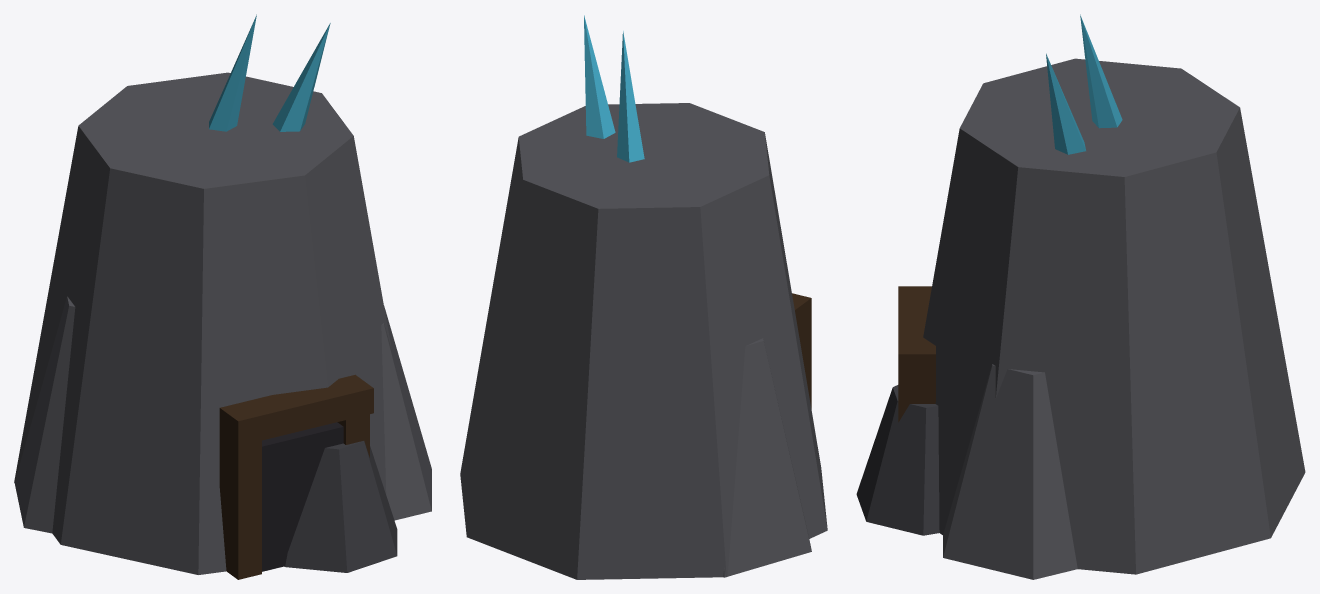
File: mine_l1_lowpoly.glb
3 views of the same model, side by side, from view 1: azimuth 30°, elevation 25°; view 2: azimuth 150°, elevation 25°; view 3: azimuth 270°, elevation 25° (orthographic). The views are drawn at different scales.
Visible parts, largest first — view 1: lp_mine; view 2: lp_mine; view 3: lp_mine.
Boxes of the visible parts, x1,y1,x2,y2 form: lp_mine: [14, 14, 431, 579]; lp_mine: [460, 15, 827, 579]; lp_mine: [856, 14, 1305, 579].
Bounding box in the file's own units: 0.9191 × 1.14 × 0.9462.
